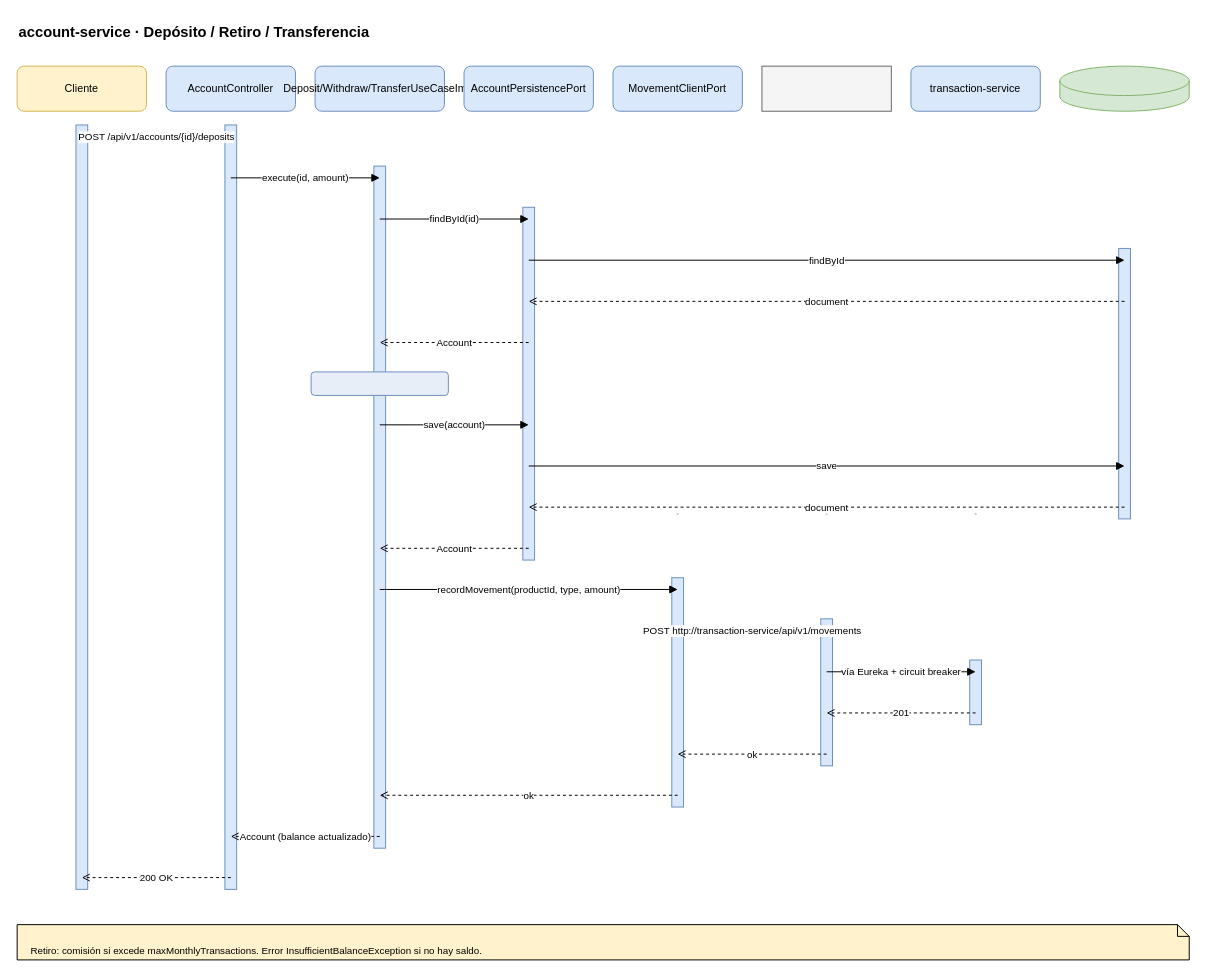
Some shapes in this 1206 by 977 pixel diagram are drawn without their labels. Each missing label, with the centre of its shape:
"account.deposit(amount) / withdraw / transfer" belongs at point (379, 383).
"MongoDB" belongs at point (1124, 88).
"MovementWebClientAdapter" belongs at point (826, 88).
